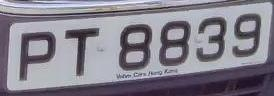3: (193, 12, 233, 66)
8: (114, 18, 157, 76), (155, 16, 196, 71)
9: (228, 10, 265, 61)
P: (12, 24, 62, 90)
T: (57, 24, 104, 84)
